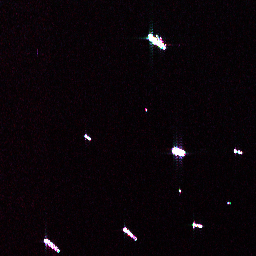ship: (145, 30, 167, 51), (41, 235, 63, 255), (120, 224, 139, 243), (169, 143, 188, 159), (81, 131, 94, 143), (190, 221, 204, 230), (232, 147, 244, 156)
